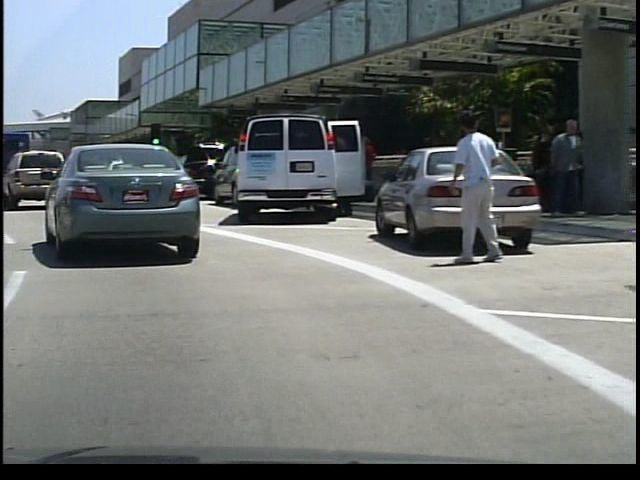person: (444, 105, 501, 266), (542, 116, 582, 218), (539, 119, 564, 218), (353, 130, 377, 199)
